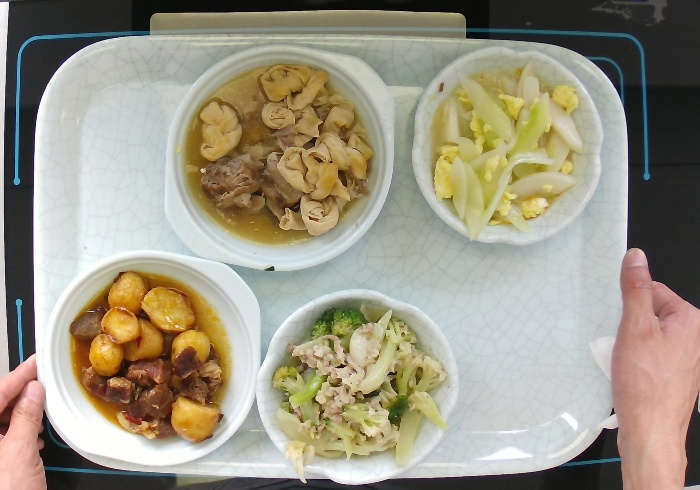JYsf-Ao_Yuan_Wan: (252, 285, 464, 490), (409, 41, 610, 250)
JYsf-Shuang_Er_Pan: (157, 39, 400, 275), (39, 246, 265, 469)
